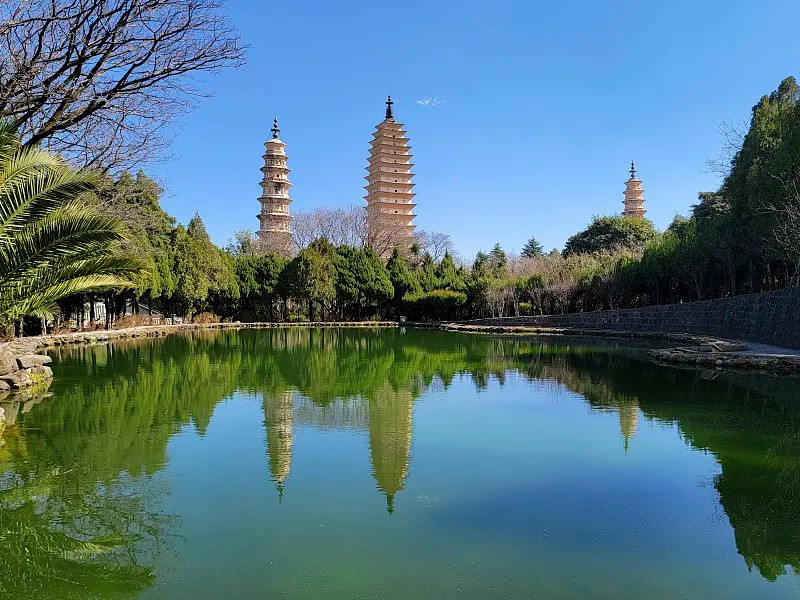ThreePagoda: (364, 94, 418, 249)
